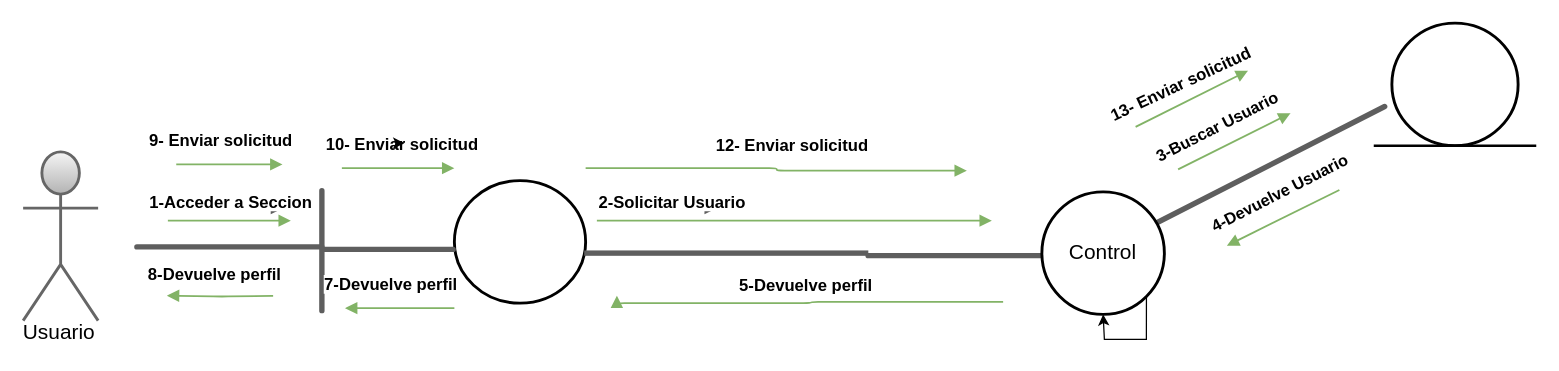
Some shapes in this 1559 by 371 pixel diagram are drawn without their labels. Here are the shapes that lost their labels. From the top down, the box of each, then its label:
(1390, 21, 1519, 146): Usuarios
(452, 179, 586, 304): Pantalla Principal
